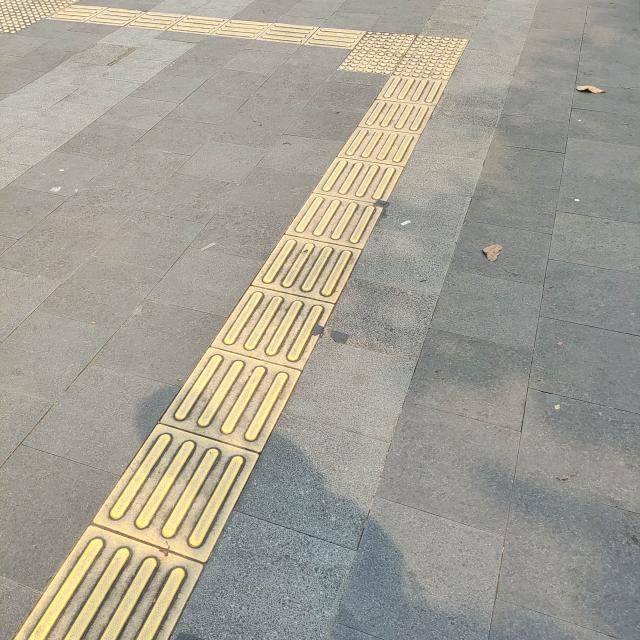kiri: (256, 4, 492, 98)
